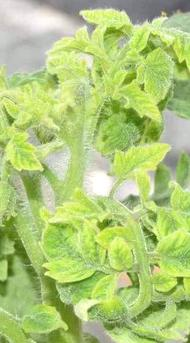Tomato leaf yellow virus: (41, 209, 100, 287), (98, 140, 175, 182), (148, 227, 190, 283), (148, 28, 190, 80), (119, 81, 160, 126), (9, 130, 42, 180)
